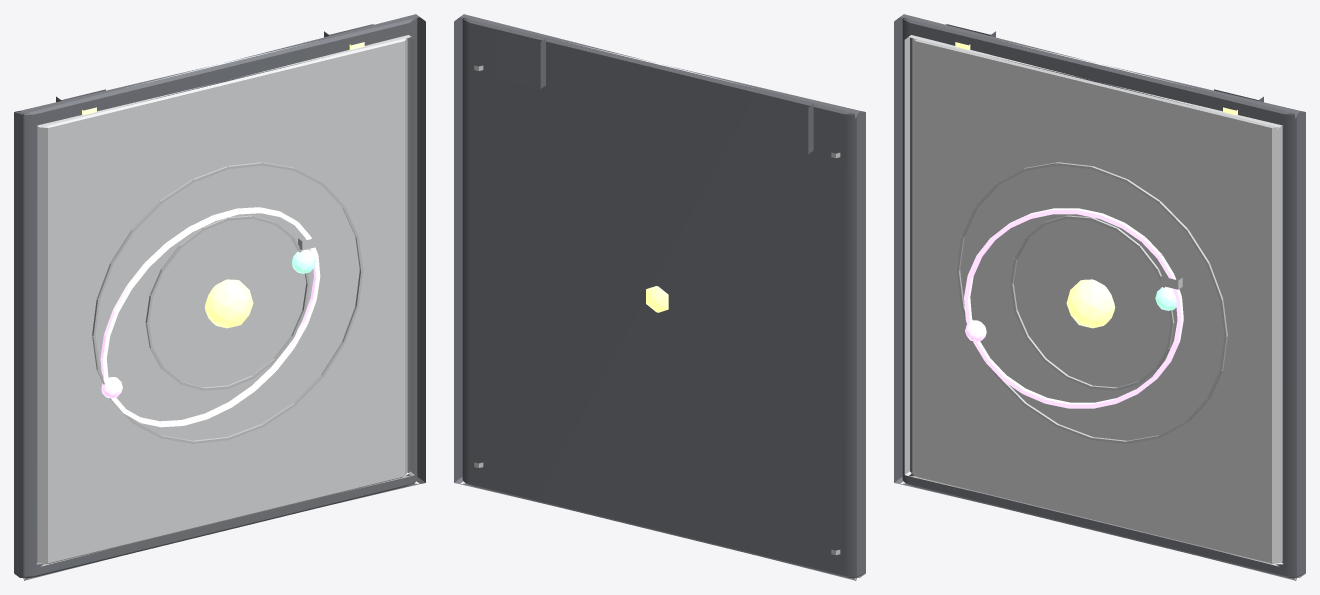
Rendered from iter_01.glb.
3 renders of one model, left to right at view 1: azimuth 30°, elevation 25°; view 2: azimuth 150°, elevation 25°; view 3: azimuth 330°, elevation 25°, orthographic.
Parts seen in each view (by area): view 1: Face_Panel, Back_Plate, Cycler_Route, Mars_Orbit, Earth_Orbit, Sun; view 2: Back_Plate, Rail_Hooks; view 3: Face_Panel, Back_Plate, Cycler_Route, Mars_Orbit, Earth_Orbit, Sun.
Boxes of the visible parts, x1,y1,x2,y2 form: Face_Panel: (36, 35, 415, 566); Back_Plate: (14, 14, 425, 580); Cycler_Route: (100, 207, 320, 427); Mars_Orbit: (92, 162, 363, 443); Earth_Orbit: (145, 215, 309, 390); Sun: (204, 279, 253, 328); Back_Plate: (454, 14, 865, 580); Rail_Hooks: (496, 31, 813, 154); Face_Panel: (904, 35, 1283, 566); Back_Plate: (894, 14, 1305, 580); Cycler_Route: (964, 208, 1183, 408); Mars_Orbit: (956, 162, 1227, 443); Earth_Orbit: (1010, 215, 1174, 390); Sun: (1066, 279, 1115, 328).
Bounding box in the file's own units: 0.9 × 1 × 0.11.
